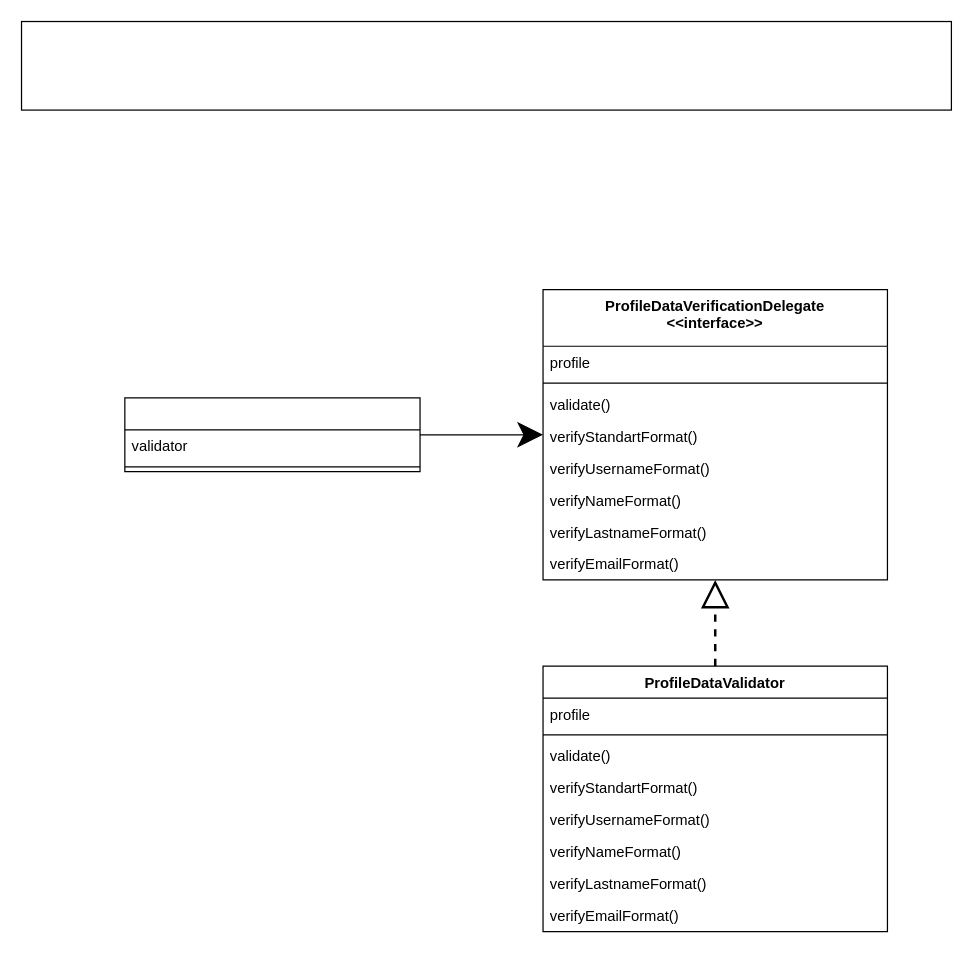
This 973x957 diagram has some shape labels left out. Here are the shapes that lost their labels. From the top down, the box of each, then its label:
(20, 20, 951, 110): Applied Delegation Design Pattern: Class Project Assignment
(124, 397, 420, 472): ProfileEditorController
